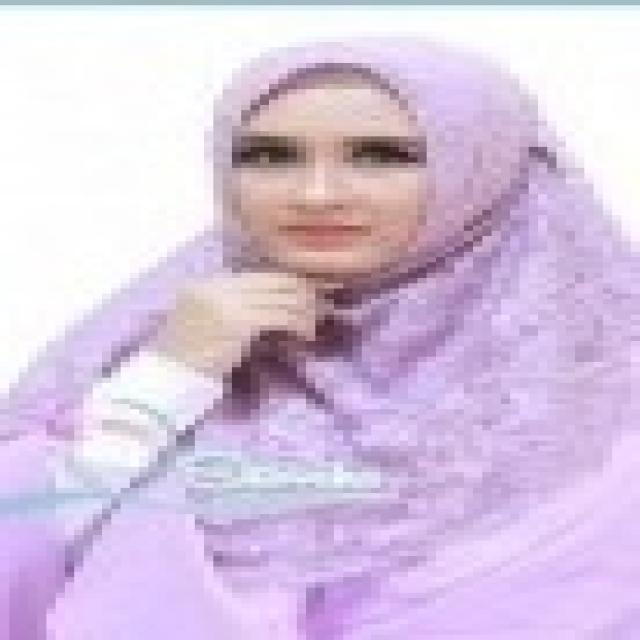head: (192, 30, 541, 297)
